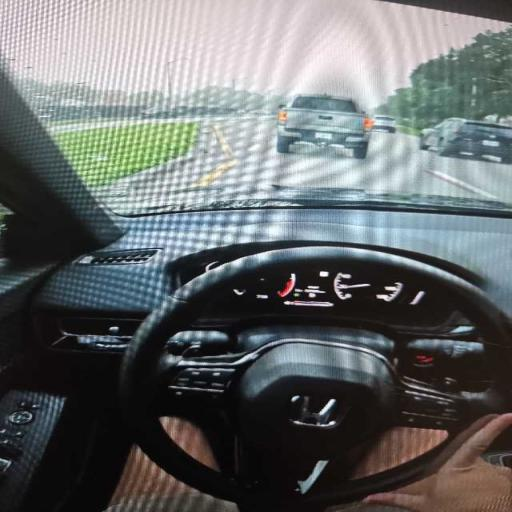car: (0, 0, 511, 511), (420, 119, 511, 162), (372, 115, 396, 133), (141, 108, 183, 118)
lane: (216, 121, 511, 201), (425, 152, 511, 202)
person: (359, 414, 511, 511)
truck: (277, 95, 371, 159)
